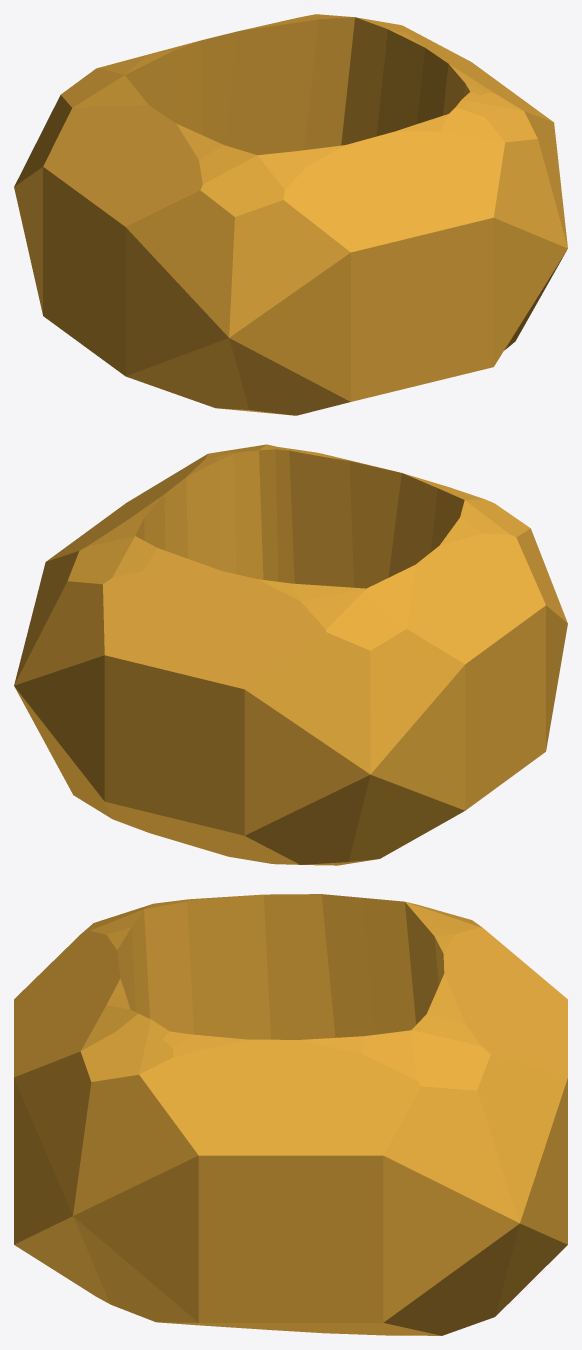
File: my attempt at a ring.glb
3 views of the same model, one above another, from view 1: azimuth 30°, elevation 25°; view 2: azimuth 150°, elevation 25°; view 3: azimuth 270°, elevation 25° (orthographic). The views are drawn at different scales.
Visible parts, largest first — view 1: ring type collectable; view 2: ring type collectable; view 3: ring type collectable.
Part boxes in pixels (x1=…): ring type collectable: x1=14, y1=14, x2=567, y2=415; ring type collectable: x1=14, y1=444, x2=567, y2=865; ring type collectable: x1=14, y1=894, x2=567, y2=1335.
Size of what is drawn, in the model's own units: 0.5 by 0.3151 by 0.5.
